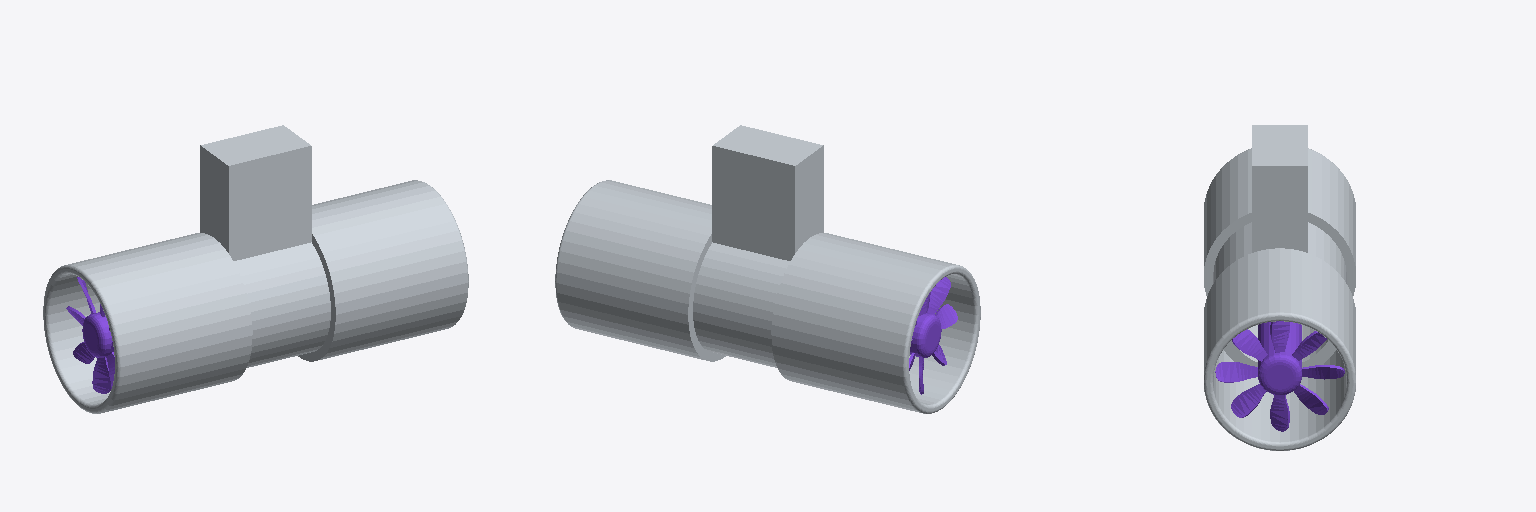
The model's file is fengji.obj.
3 views of the same model, side by side, from view 1: azimuth 30°, elevation 25°; view 2: azimuth 150°, elevation 25°; view 3: azimuth 270°, elevation 25° (orthographic).
Visible parts, largest first — view 1: tongfeng; view 2: tongfeng; view 3: tongfeng.
Part boxes in pixels (bbox=[...]): tongfeng: bbox=[43, 125, 468, 413]; tongfeng: bbox=[555, 125, 980, 413]; tongfeng: bbox=[1204, 125, 1355, 450].
Size of the model in its own units: 2550 by 1531 by 960.